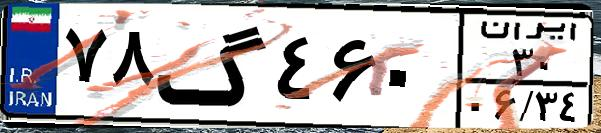0: (385, 28, 445, 110), (537, 27, 568, 80), (470, 70, 495, 125)
3: (508, 27, 537, 80), (535, 70, 560, 125)
4: (270, 28, 330, 110), (560, 70, 590, 125)
6: (330, 28, 385, 110), (495, 70, 520, 125)
7: (57, 26, 110, 100)
8: (110, 28, 156, 98)
گ: (156, 12, 270, 120)
